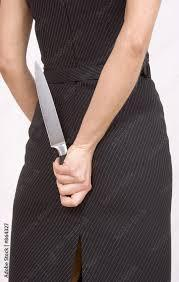Knife: (30, 59, 73, 167)
